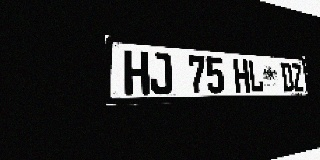5: (205, 56, 225, 94)
7: (187, 55, 207, 94)
D: (280, 62, 294, 92)
H: (124, 50, 150, 95), (233, 59, 250, 93)
J: (149, 52, 173, 95)
L: (248, 60, 264, 93)
Z: (291, 63, 304, 92)
